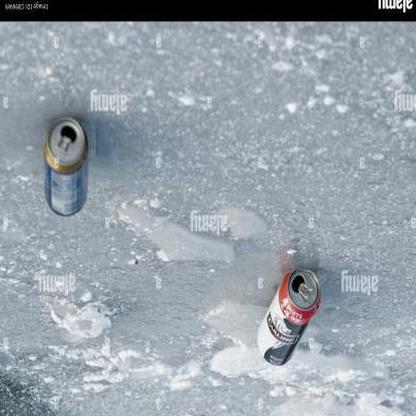can: (255, 268, 323, 366), (44, 118, 89, 217)
